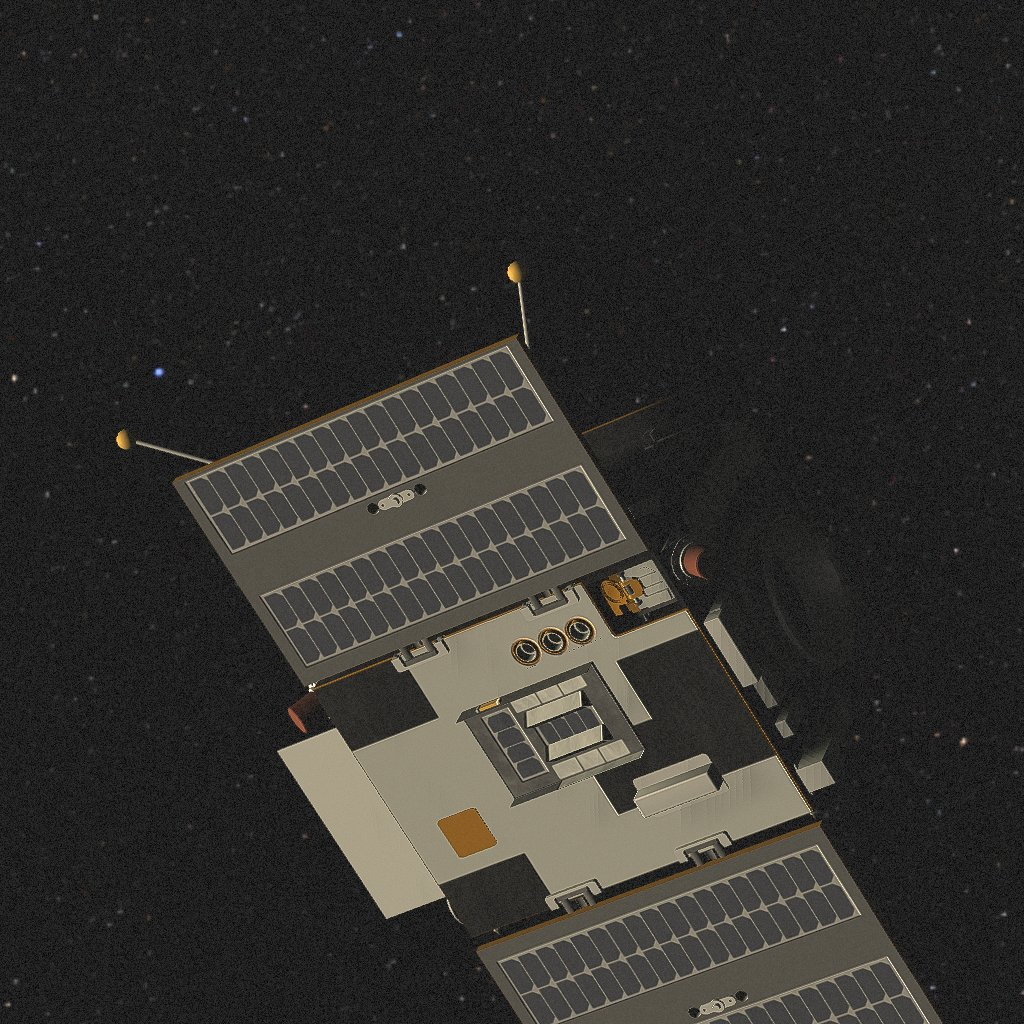proba_2: (117, 261, 946, 1024)
